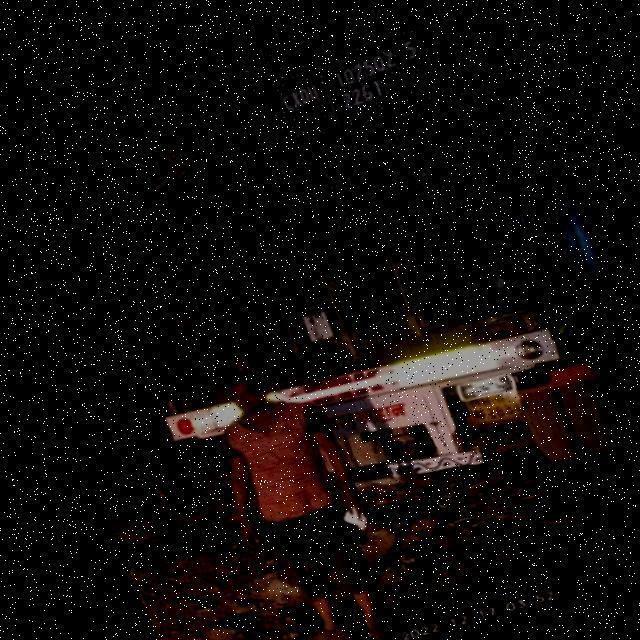container_number_h: (234, 7, 468, 149)
